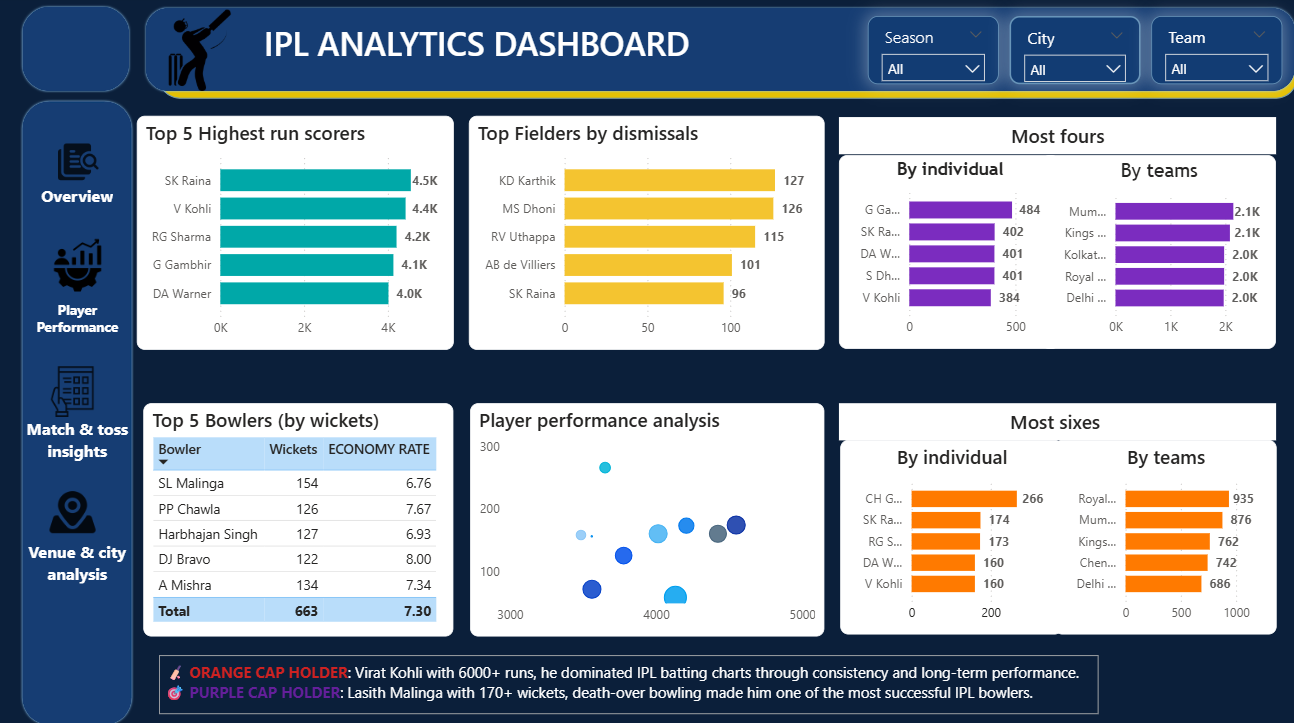

The page's visual inventory and layout, read from the dashboard file:
{"tool":"powerbi","page":{"name":"Player Performance","canvas":[1280,720],"ordinal":1},"visuals":[{"type":"shape","box":[161.3,20.6,1118.5,81.3],"z":0},{"type":"clusteredBarChart","title":"By individual ","fields":{"Category":["deliveries - deliveries csv.batsman"],"Y":["deliveries - deliveries csv.PLAYER FOURS"]},"box":[829.5,156.9,216.9,190.6],"z":0,"group":"g1"},{"type":"textbox","box":[829.5,401.2,430,36.7],"z":0,"group":"g2"},{"type":"shape","title":"IPL DASHBOARD","box":[145.8,10.3,1134,86.4],"z":1000},{"type":"clusteredBarChart","title":"By teams","fields":{"Category":["deliveries - deliveries csv.batting_team"],"Y":["deliveries - deliveries csv.PLAYER FOURS"]},"box":[1028.7,156.9,230.8,190.6],"z":1000,"group":"g1"},{"type":"clusteredBarChart","title":"By individual","fields":{"Category":["deliveries - deliveries csv.batsman"],"Y":["deliveries - deliveries csv.PLAYER SIXES"]},"box":[830.3,437.8,218.3,191.4],"z":1000,"group":"g2"},{"type":"slicer","fields":{"Values":["matches (1) - matches (1) csv.season"]},"box":[857.9,20.6,129,67.1],"z":2000},{"type":"textbox","box":[829.5,120,430,36.9],"z":2000,"group":"g1"},{"type":"clusteredBarChart","title":"By teams","fields":{"Category":["deliveries - deliveries csv.batting_team"],"Y":["deliveries - deliveries csv.PLAYER SIXES"]},"box":[1040.6,437.8,218.3,191.4],"z":2000,"group":"g2"},{"type":"slicer","fields":{"Values":["matches (1) - matches (1) csv.city"]},"box":[997.3,20.6,129,67.1],"z":3000},{"type":"slicer","fields":{"Values":["matches (1) - matches (1) csv.team1","matches (1) - matches (1) csv.team2"]},"box":[1136.6,20.6,129,67.1],"z":4000},{"type":"shape","box":[24.5,101.9,112.2,618],"z":5000},{"type":"pageNavigator","box":[28.4,141.9,105.8,472.2],"z":6000},{"type":"image","box":[56.8,141.9,49,43.9],"z":7000},{"type":"image","box":[50.3,238.7,61.9,54.2],"z":8000},{"type":"image","box":[49,359.9,52.9,56.8],"z":9000},{"type":"image","box":[50.3,455.4,51.6,105.8],"z":10000},{"type":"textbox","box":[259.3,20.6,459.3,59.3],"z":11000},{"type":"image","box":[161.3,9,80,90.3],"z":12000},{"type":"shape","box":[24.5,9,109.7,87.7],"z":13000},{"type":"clusteredBarChart","title":"Top 5 Highest run scorers","fields":{"Y":["deliveries - deliveries csv.TOTAL BATSMAN RUNS"],"Category":["deliveries - deliveries csv.batsman"]},"box":[138.7,119.1,311.5,230],"z":14000},{"type":"clusteredBarChart","title":"Top Fielders by dismissals ","fields":{"Category":["deliveries - deliveries csv.fielder"],"Y":["deliveries - deliveries csv.FIELDING DISMISSALS"]},"box":[465.2,119.1,349.5,230],"z":15000},{"type":"group","id":"g1","title":"Group 1","box":[829.5,120,429.6,228.3],"z":16000},{"type":"tableEx","title":"Top 5 Bowlers (by wickets)","fields":{"Values":["deliveries - deliveries csv.bowler","deliveries - deliveries csv.BOWLER WICKETS","deliveries - deliveries csv.ECONOMY RATE"]},"box":[145.8,401.2,304.5,229.6],"z":17000},{"type":"scatterChart","title":"Player performance analysis","fields":{"Y":["deliveries - deliveries csv.PLAYER SIXES"],"Size":["deliveries - deliveries csv.PLAYER FOURS"],"X":["deliveries - deliveries csv.TOTAL BATSMAN RUNS"],"Series":["deliveries - deliveries csv.batsman"]},"box":[467,401.2,348.3,229.6],"z":18000},{"type":"group","id":"g2","title":"Group 2","box":[829.5,401.2,430,228],"z":19000},{"type":"textbox","box":[161.3,648.9,923.7,58.1],"z":20000}]}

Visuals, with their boxes in screenshot pixels (x1, y1, x2, y2), scaled from the page's 1280x720 canvas onto the 1294x723 screenshot:
shape: (left=163, top=21, right=1293, bottom=102)
"By individual " clusteredBarChart: (left=839, top=158, right=1058, bottom=349)
textbox: (left=839, top=403, right=1273, bottom=440)
"IPL DASHBOARD" shape: (left=147, top=10, right=1293, bottom=97)
"By teams" clusteredBarChart: (left=1040, top=158, right=1273, bottom=349)
"By individual" clusteredBarChart: (left=839, top=440, right=1060, bottom=632)
slicer - matches (1) - matches (1) csv.season: (left=867, top=21, right=998, bottom=88)
textbox: (left=839, top=120, right=1273, bottom=158)
"By teams" clusteredBarChart: (left=1052, top=440, right=1273, bottom=632)
slicer - matches (1) - matches (1) csv.city: (left=1008, top=21, right=1139, bottom=88)
slicer - matches (1) - matches (1) csv.team1 x matches (1) - matches (1) csv.team2: (left=1149, top=21, right=1279, bottom=88)
shape: (left=25, top=102, right=138, bottom=722)
pageNavigator: (left=29, top=142, right=136, bottom=617)
image: (left=57, top=142, right=107, bottom=187)
image: (left=51, top=240, right=113, bottom=294)
image: (left=50, top=361, right=103, bottom=418)
image: (left=51, top=457, right=103, bottom=564)
textbox: (left=262, top=21, right=726, bottom=80)
image: (left=163, top=9, right=244, bottom=100)
shape: (left=25, top=9, right=136, bottom=97)
"Top 5 Highest run scorers" clusteredBarChart: (left=140, top=120, right=455, bottom=351)
"Top Fielders by dismissals " clusteredBarChart: (left=470, top=120, right=824, bottom=351)
"Group 1" group: (left=839, top=120, right=1273, bottom=350)
"Top 5 Bowlers (by wickets)" tableEx: (left=147, top=403, right=455, bottom=633)
"Player performance analysis" scatterChart: (left=472, top=403, right=824, bottom=633)
"Group 2" group: (left=839, top=403, right=1273, bottom=632)
textbox: (left=163, top=652, right=1097, bottom=710)
